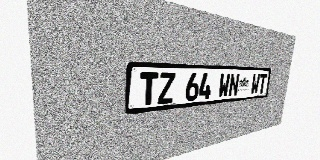4: (198, 73, 213, 100)
6: (185, 73, 200, 101)
N: (228, 73, 240, 97)
T: (139, 72, 159, 106), (258, 73, 267, 94)
W: (218, 73, 230, 98), (250, 73, 260, 95)
Z: (158, 72, 175, 104)
